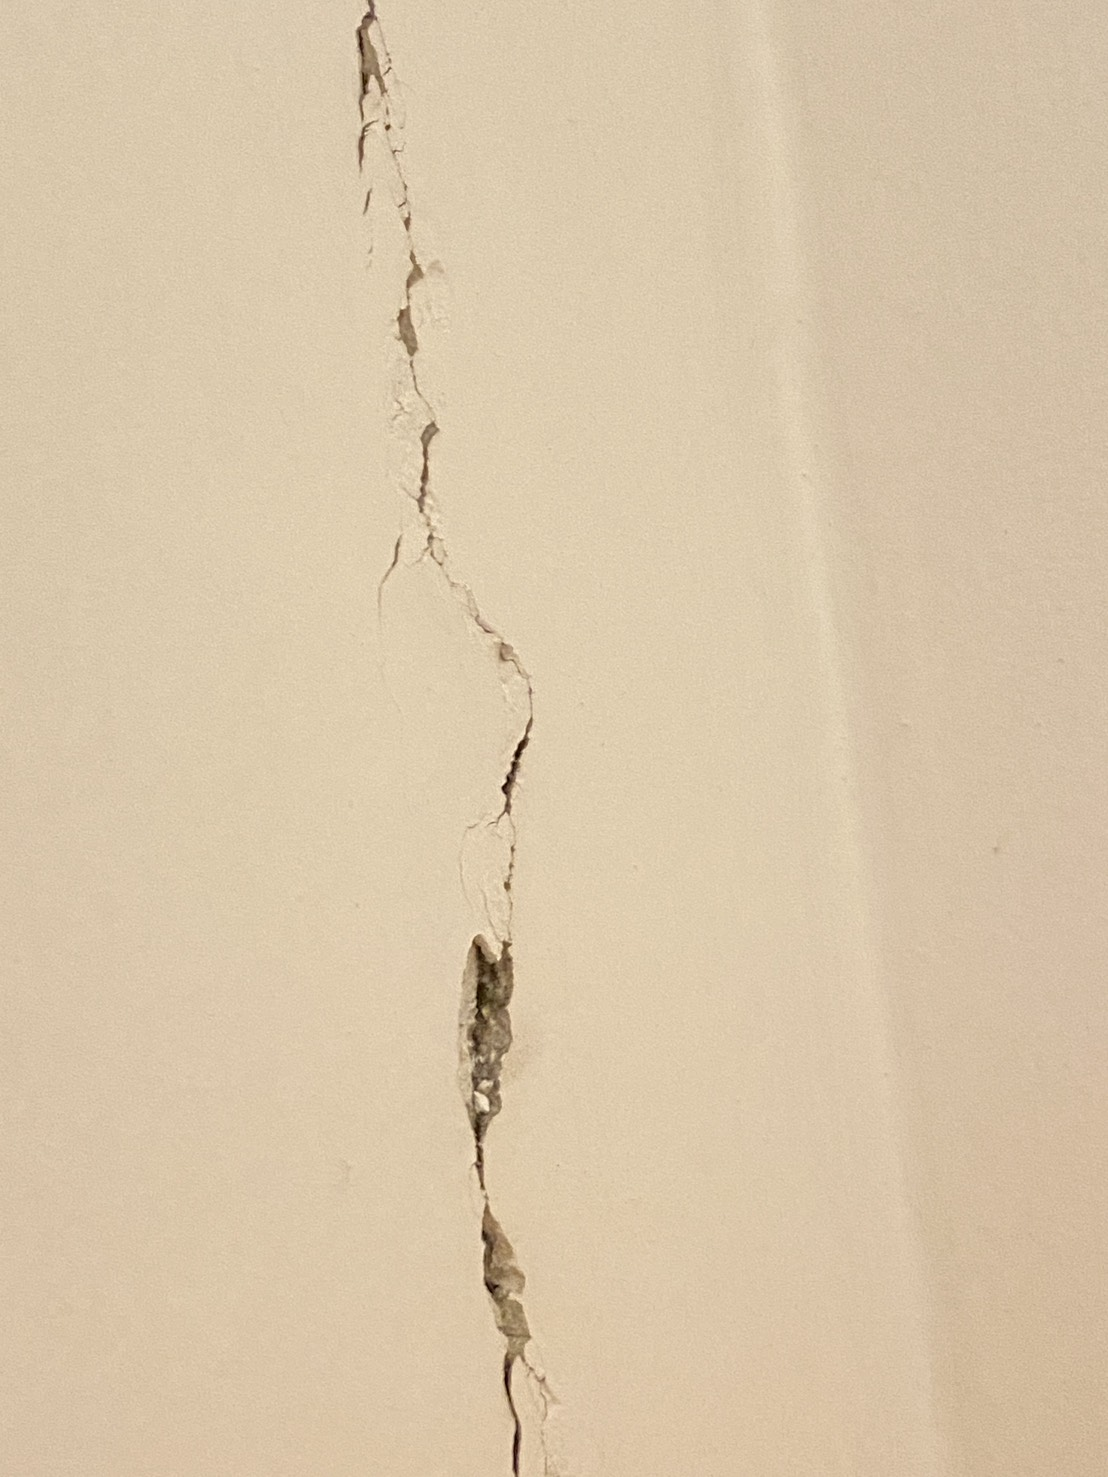Medium: (263, 33, 633, 1430)
